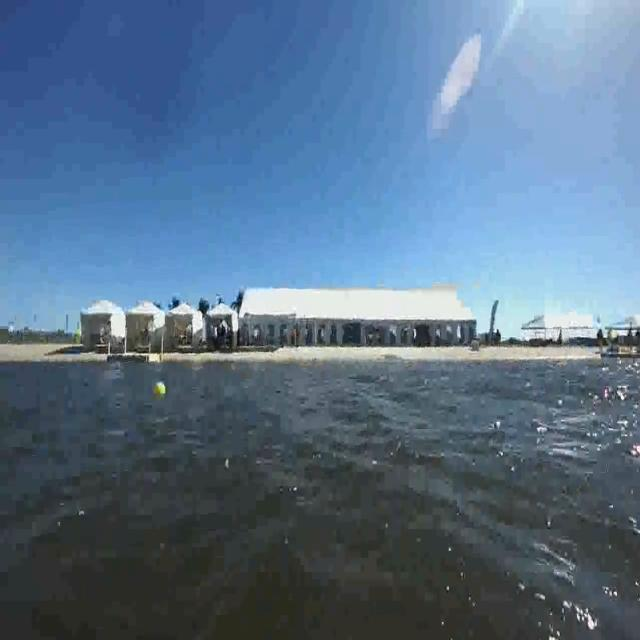yellow-buoy: (156, 381, 168, 397)
